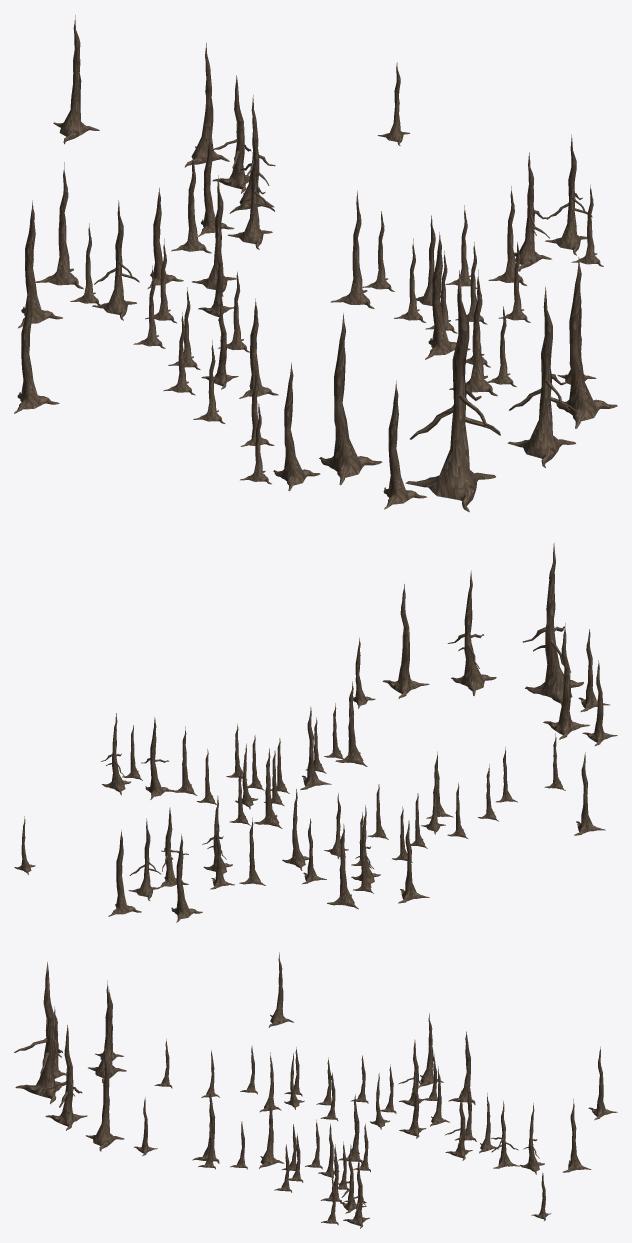
File: songshugan_03.FBX
The picture shows the model from 3 angles, top to bottom: view 1: azimuth 30°, elevation 25°; view 2: azimuth 150°, elevation 25°; view 3: azimuth 270°, elevation 25°; orthographic projection. The views are drawn at different scales.
Visible parts, largest first — view 1: Object015; view 2: Object015; view 3: Object015.
Part boxes in pixels (left/top/right/bottom): Object015: left=14, top=15, right=617, bottom=512; Object015: left=14, top=543, right=617, bottom=922; Object015: left=14, top=952, right=617, bottom=1228.
Bounding box in the file's own units: 9138 × 3442 × 12218.
